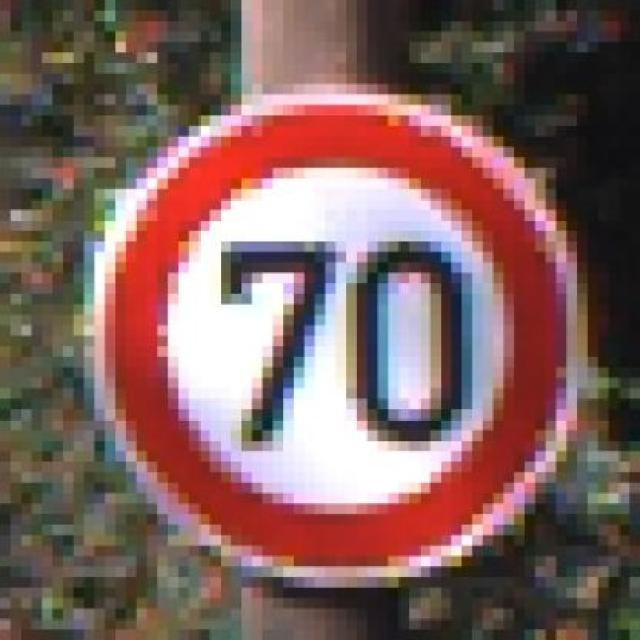forb_speed_over_70: (97, 92, 574, 586)
